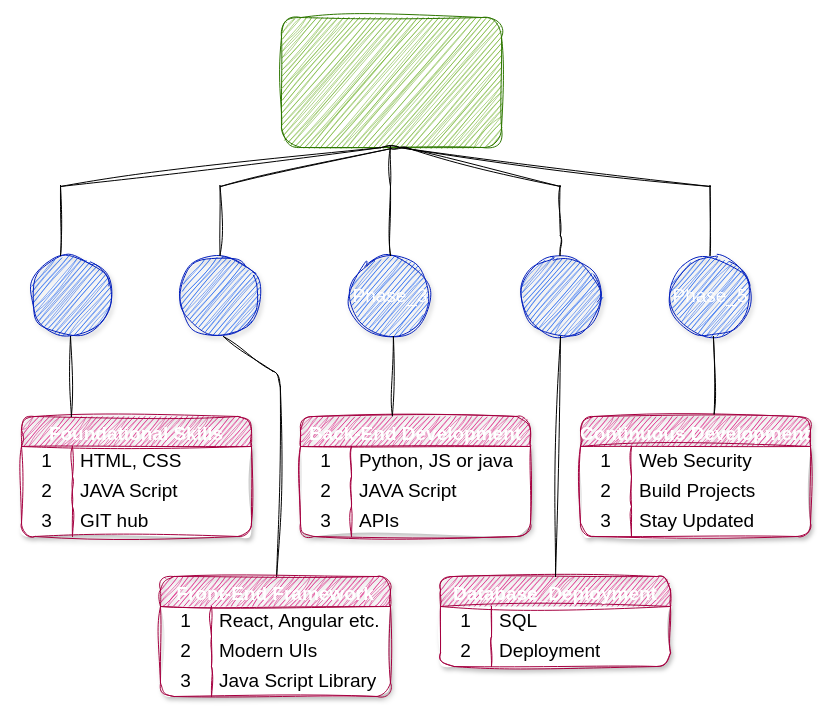
Image size: 834x721. Some labels were removed from this diagram. Each missing label, with the centre of its shape:
"Phase_1" goes at (x=71, y=298).
"Phase_2" goes at (x=221, y=298).
"Phase_4" goes at (x=561, y=298).
"Road-map for full stack Web Developer" goes at (x=391, y=82).
